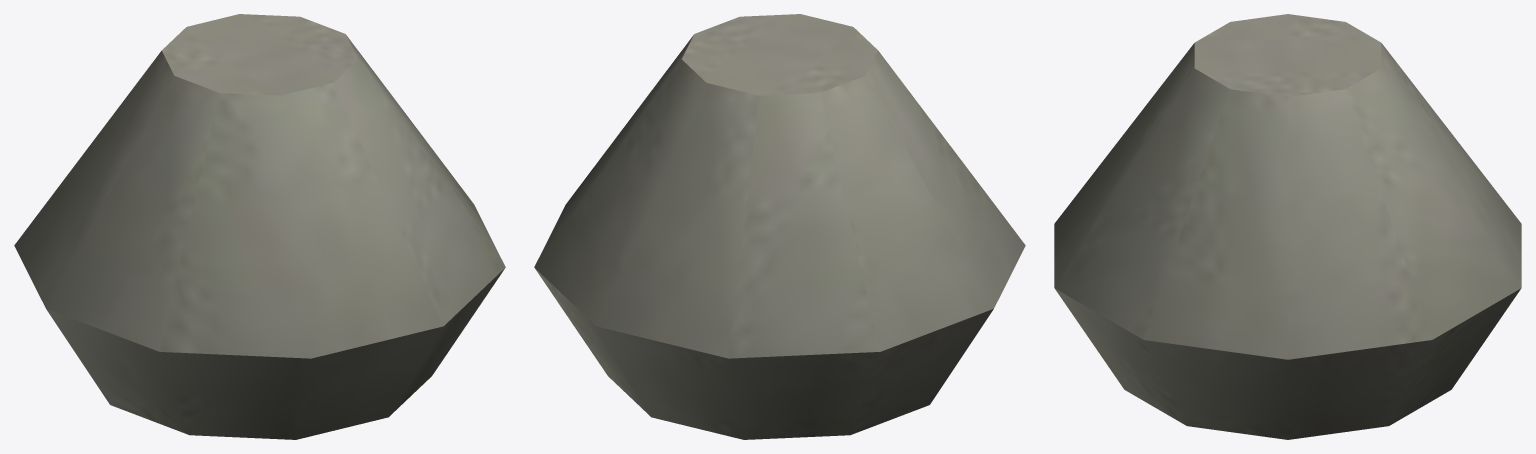
Rendered from jellynut-seed.glb.
3 renders of one model, left to right at view 1: azimuth 30°, elevation 25°; view 2: azimuth 150°, elevation 25°; view 3: azimuth 270°, elevation 25°, orthographic.
Visible parts, largest first — view 1: jellynut-seed; view 2: jellynut-seed; view 3: jellynut-seed.
Boxes of the visible parts, x1=… form: jellynut-seed: x1=14, y1=14, x2=505, y2=439; jellynut-seed: x1=534, y1=14, x2=1025, y2=439; jellynut-seed: x1=1054, y1=14, x2=1521, y2=439.
Size of the model in its own units: 0.1 by 0.07 by 0.0951.
Materials: 1 (1 with a texture image).
